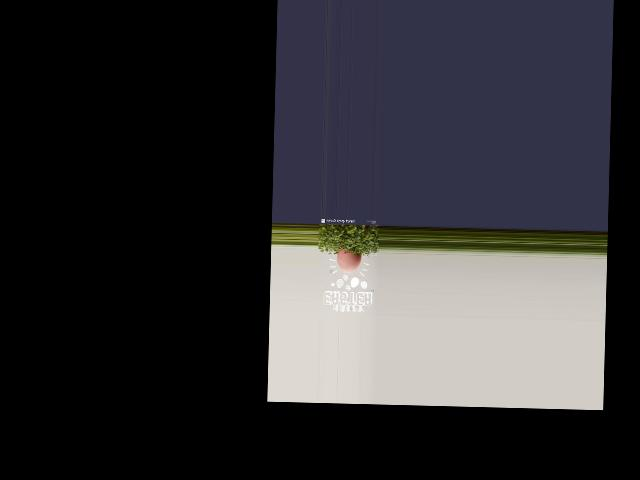egg: (337, 248, 362, 273)
